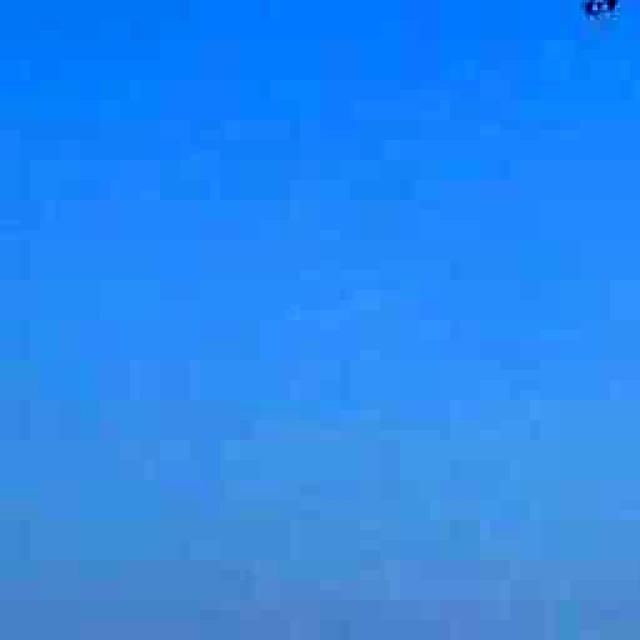bird: (530, 0, 640, 59)
